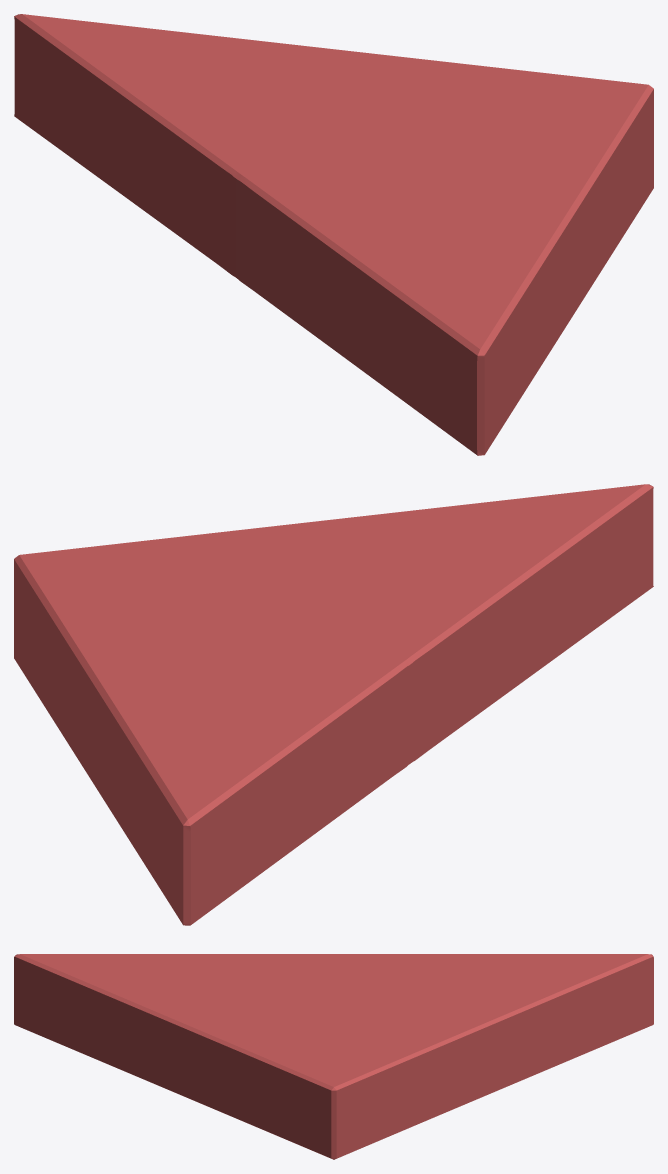
File: Triangulo_03.fbx
3 views of the same model, one above another, from view 1: azimuth 30°, elevation 25°; view 2: azimuth 150°, elevation 25°; view 3: azimuth 270°, elevation 25° (orthographic). The views are drawn at different scales.
Visible parts, largest first — view 1: polySurface56; view 2: polySurface56; view 3: polySurface56.
Part boxes in pixels (x1,y1,x2,y2): polySurface56: (14,14,653,455); polySurface56: (14,484,653,925); polySurface56: (14,954,653,1159).
Bounding box in the file's own units: 5 × 1.25 × 9.95.
